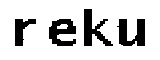e: (47, 17, 77, 48)
k: (82, 5, 112, 48)
r: (9, 13, 41, 50)
u: (120, 14, 147, 51)
